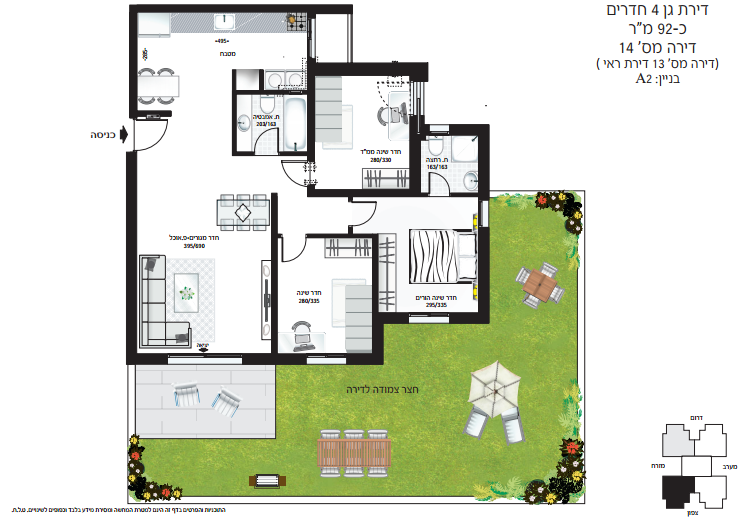room: (127, 2, 277, 368), (130, 3, 316, 95), (369, 189, 491, 325), (306, 61, 422, 197), (268, 232, 377, 368), (406, 124, 488, 197), (231, 88, 315, 158)
